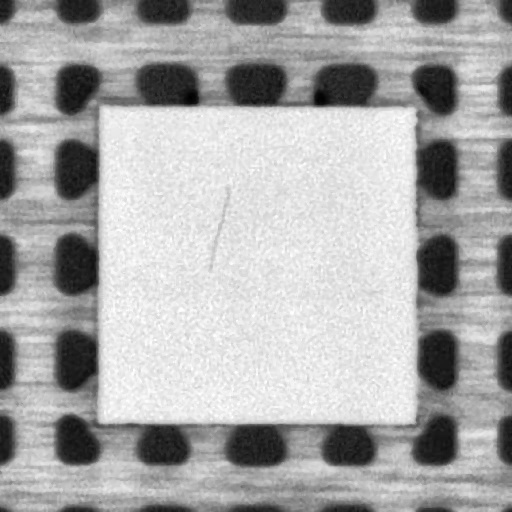DIE_CRACK: (204, 185, 229, 278)
